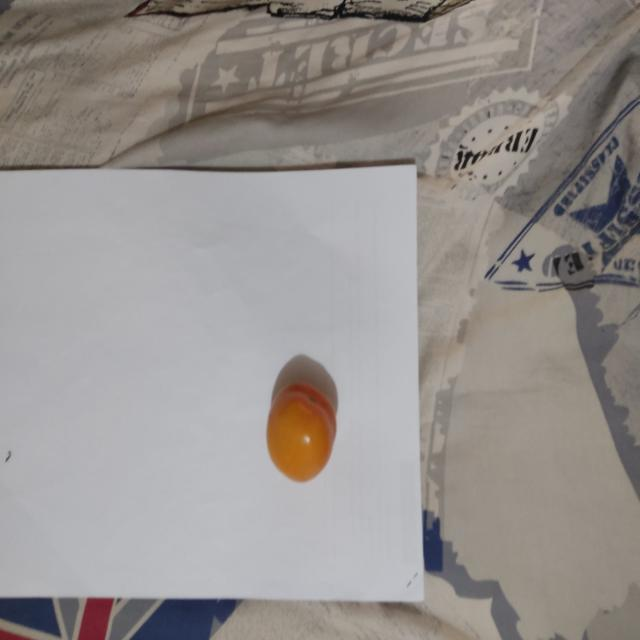sari: (236, 376, 348, 484)
